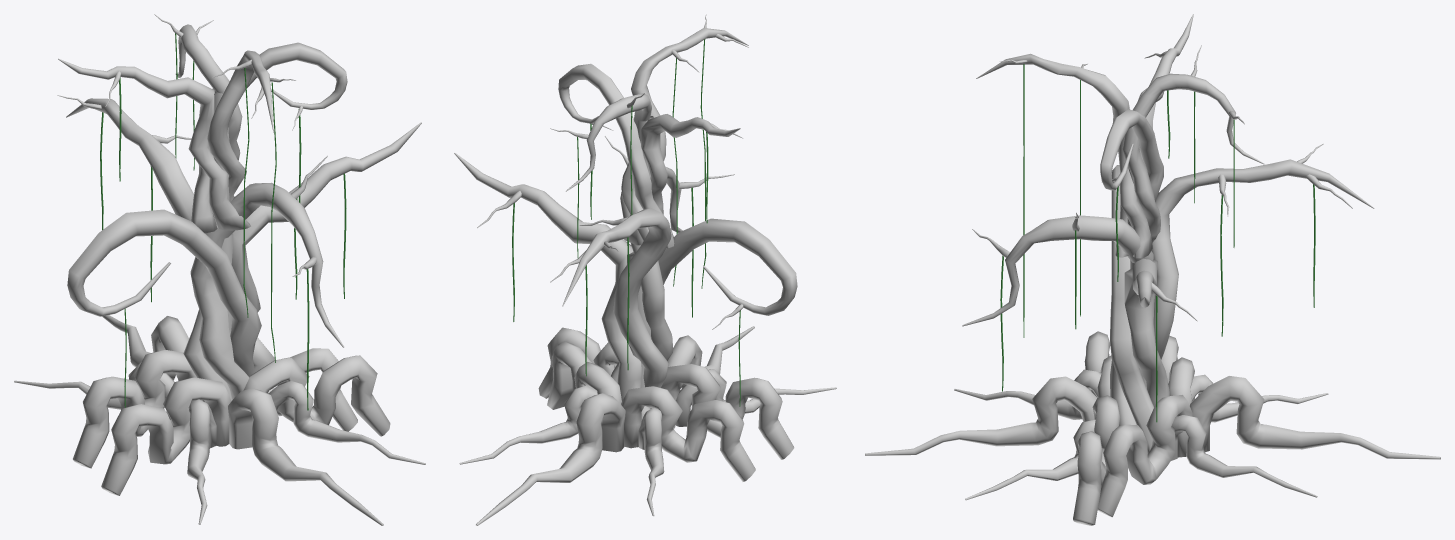
File: Plants_Mutant_V2.fbx
3 renders of one model, left to right at view 1: azimuth 30°, elevation 25°; view 2: azimuth 150°, elevation 25°; view 3: azimuth 270°, elevation 25°, orthographic. The views are drawn at different scales.
Parts seen in each view (by area): view 1: Plants, Lianas; view 2: Plants, Lianas; view 3: Plants, Lianas.
Part boxes in pixels (box(x1,y1,x2,y2)): Plants: box(14, 14, 425, 525); Lianas: box(100, 33, 346, 410); Plants: box(454, 14, 836, 525); Lianas: box(512, 39, 740, 406); Plants: box(865, 14, 1440, 525); Lianas: box(1000, 64, 1315, 422).
Size of the model in its own units: 778 by 854 by 1102.
